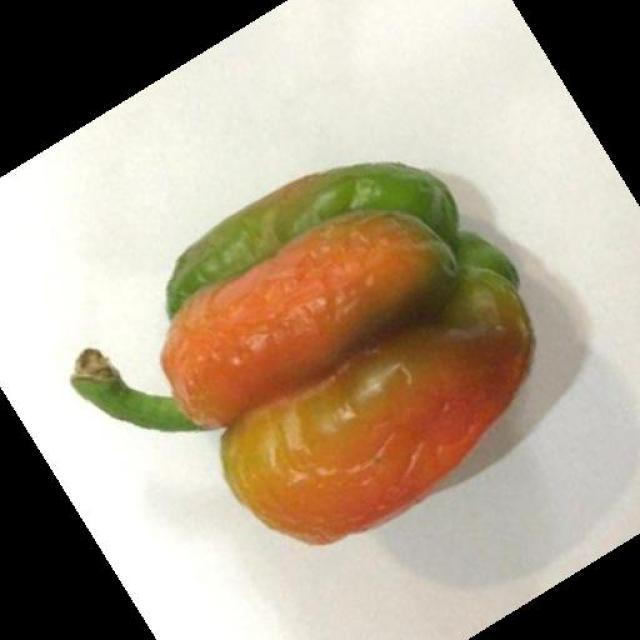Stale_Capsicum: (90, 182, 566, 542)
